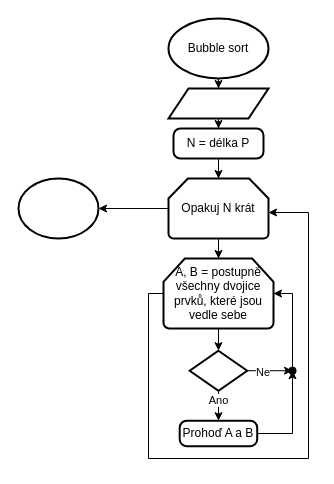
Image size: 334x484. Some labels were removed from this diagram. Here are the shapes that lost their labels. From the top down, the box of each, then its label:
(167, 87, 269, 119): P = pole čísel
(17, 177, 99, 239): Konec, P je seřazené pole
(188, 349, 248, 391): A < B
